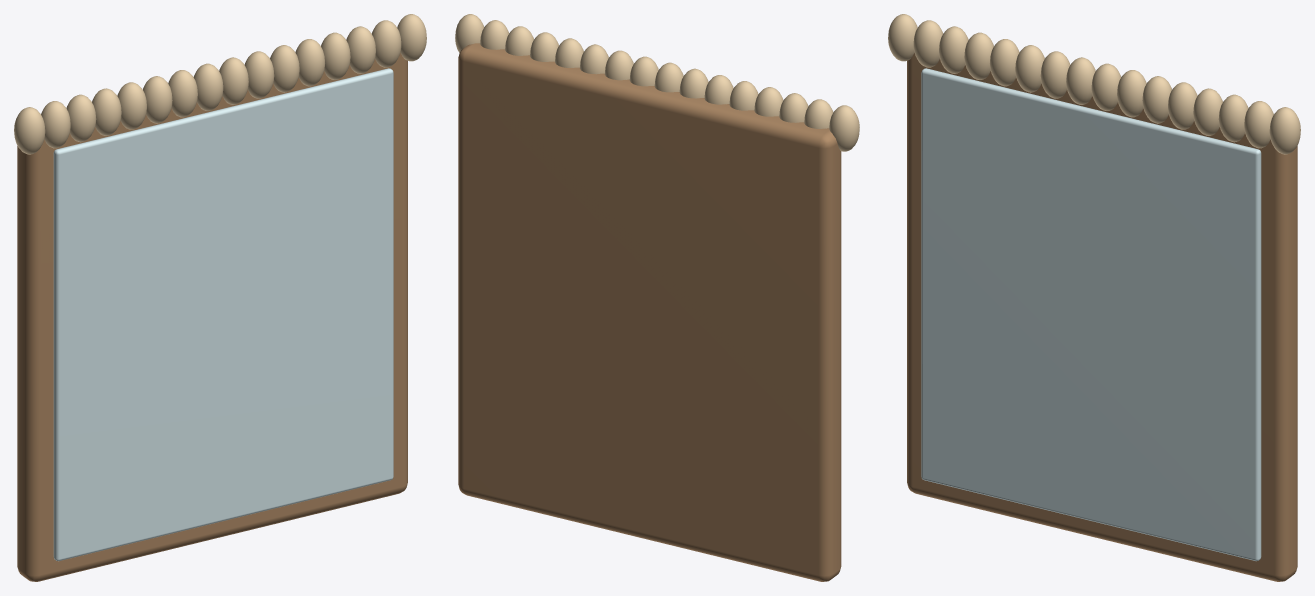
File: atelier-ornate-mirror.glb
The picture shows the model from 3 angles, left to right: view 1: azimuth 30°, elevation 25°; view 2: azimuth 150°, elevation 25°; view 3: azimuth 330°, elevation 25°; orthographic projection. The views are drawn at different scales.
Visible parts, largest first — view 1: glass.008, legs.128, accent.018; view 2: legs.128, accent.018; view 3: glass.008, legs.128, accent.018.
Part boxes in pixels (x1,y1,x2,y2): glass.008: [53, 68, 393, 561]; legs.128: [17, 53, 407, 581]; accent.018: [14, 14, 426, 154]; legs.128: [458, 43, 841, 581]; accent.018: [455, 14, 859, 151]; glass.008: [921, 68, 1261, 561]; legs.128: [907, 53, 1297, 581]; accent.018: [888, 14, 1300, 154].
Size of the model in its own units: 0.75 by 0.84 by 0.0775.
